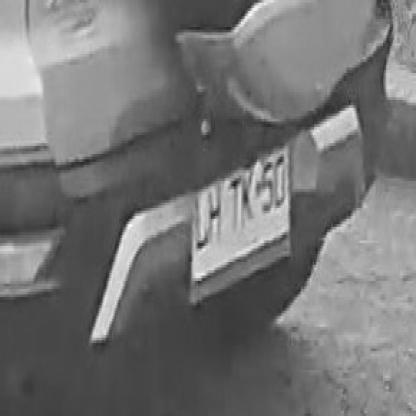Patente: (189, 140, 295, 289)
